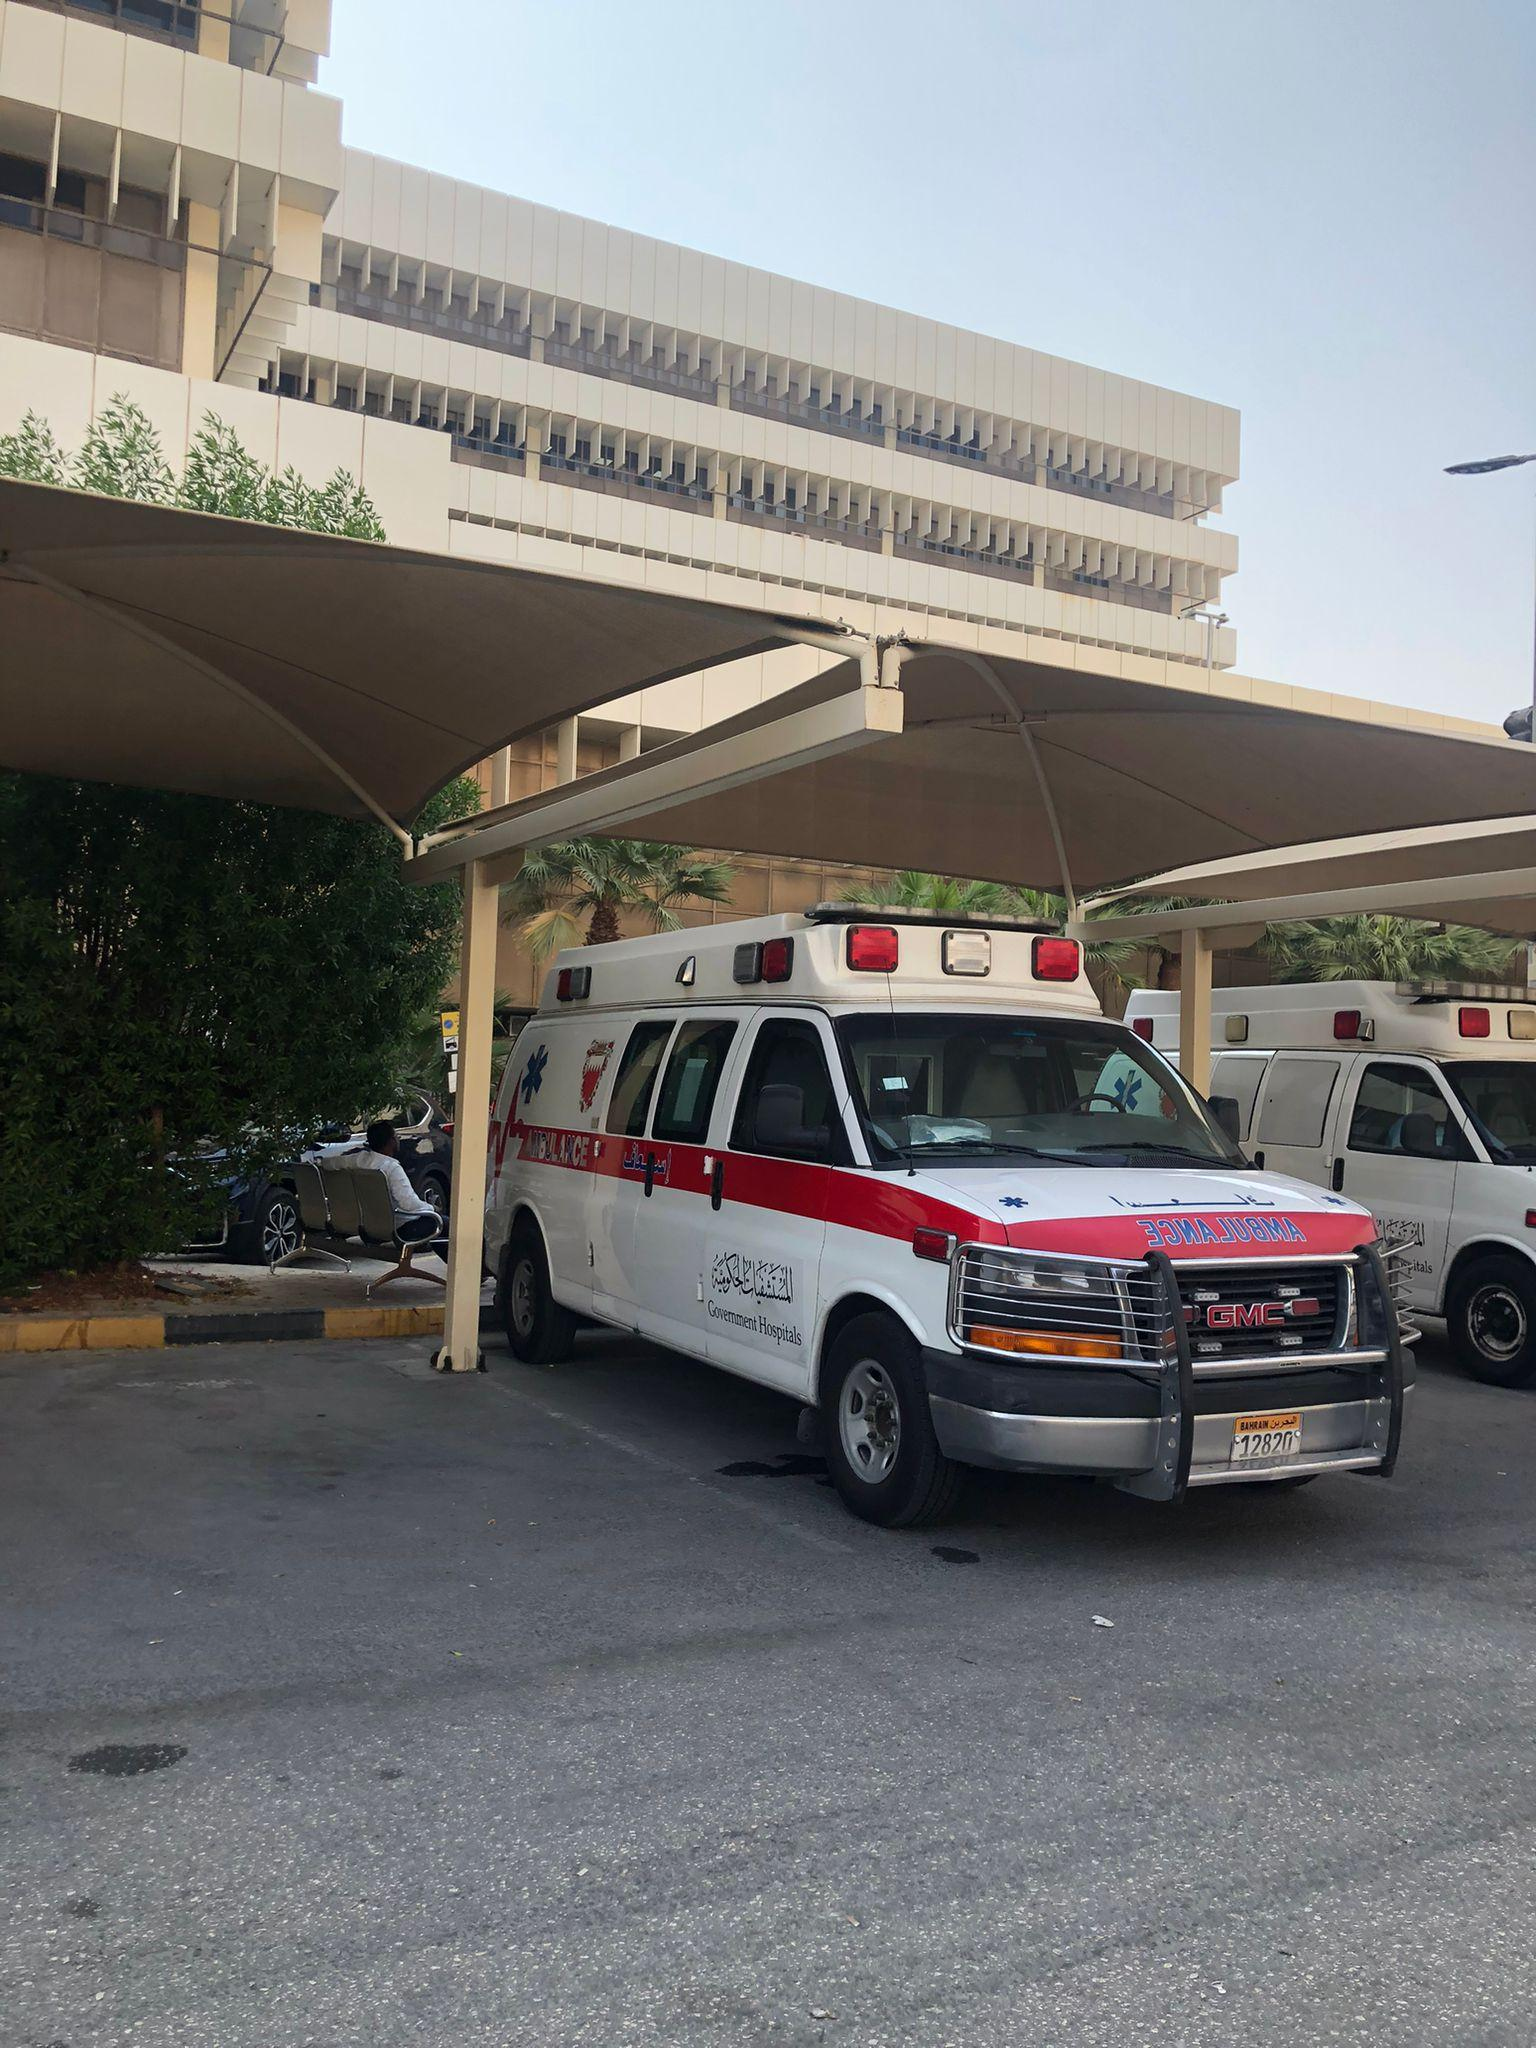ambulance_off: (487, 905, 1417, 1530), (1091, 982, 1536, 1384)
